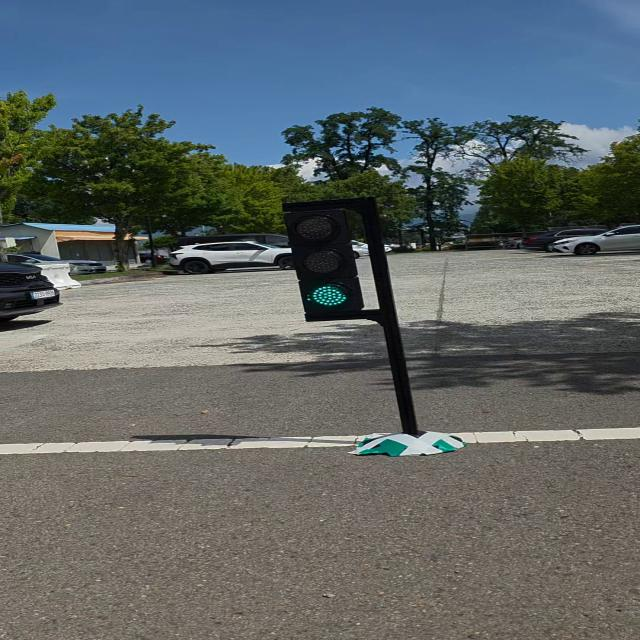green: (282, 202, 371, 318)
